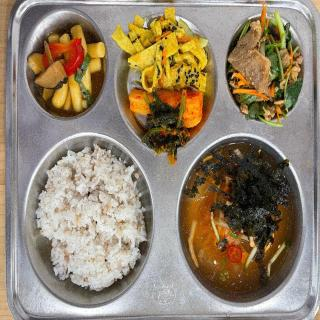Nasi: (37, 141, 143, 290)
